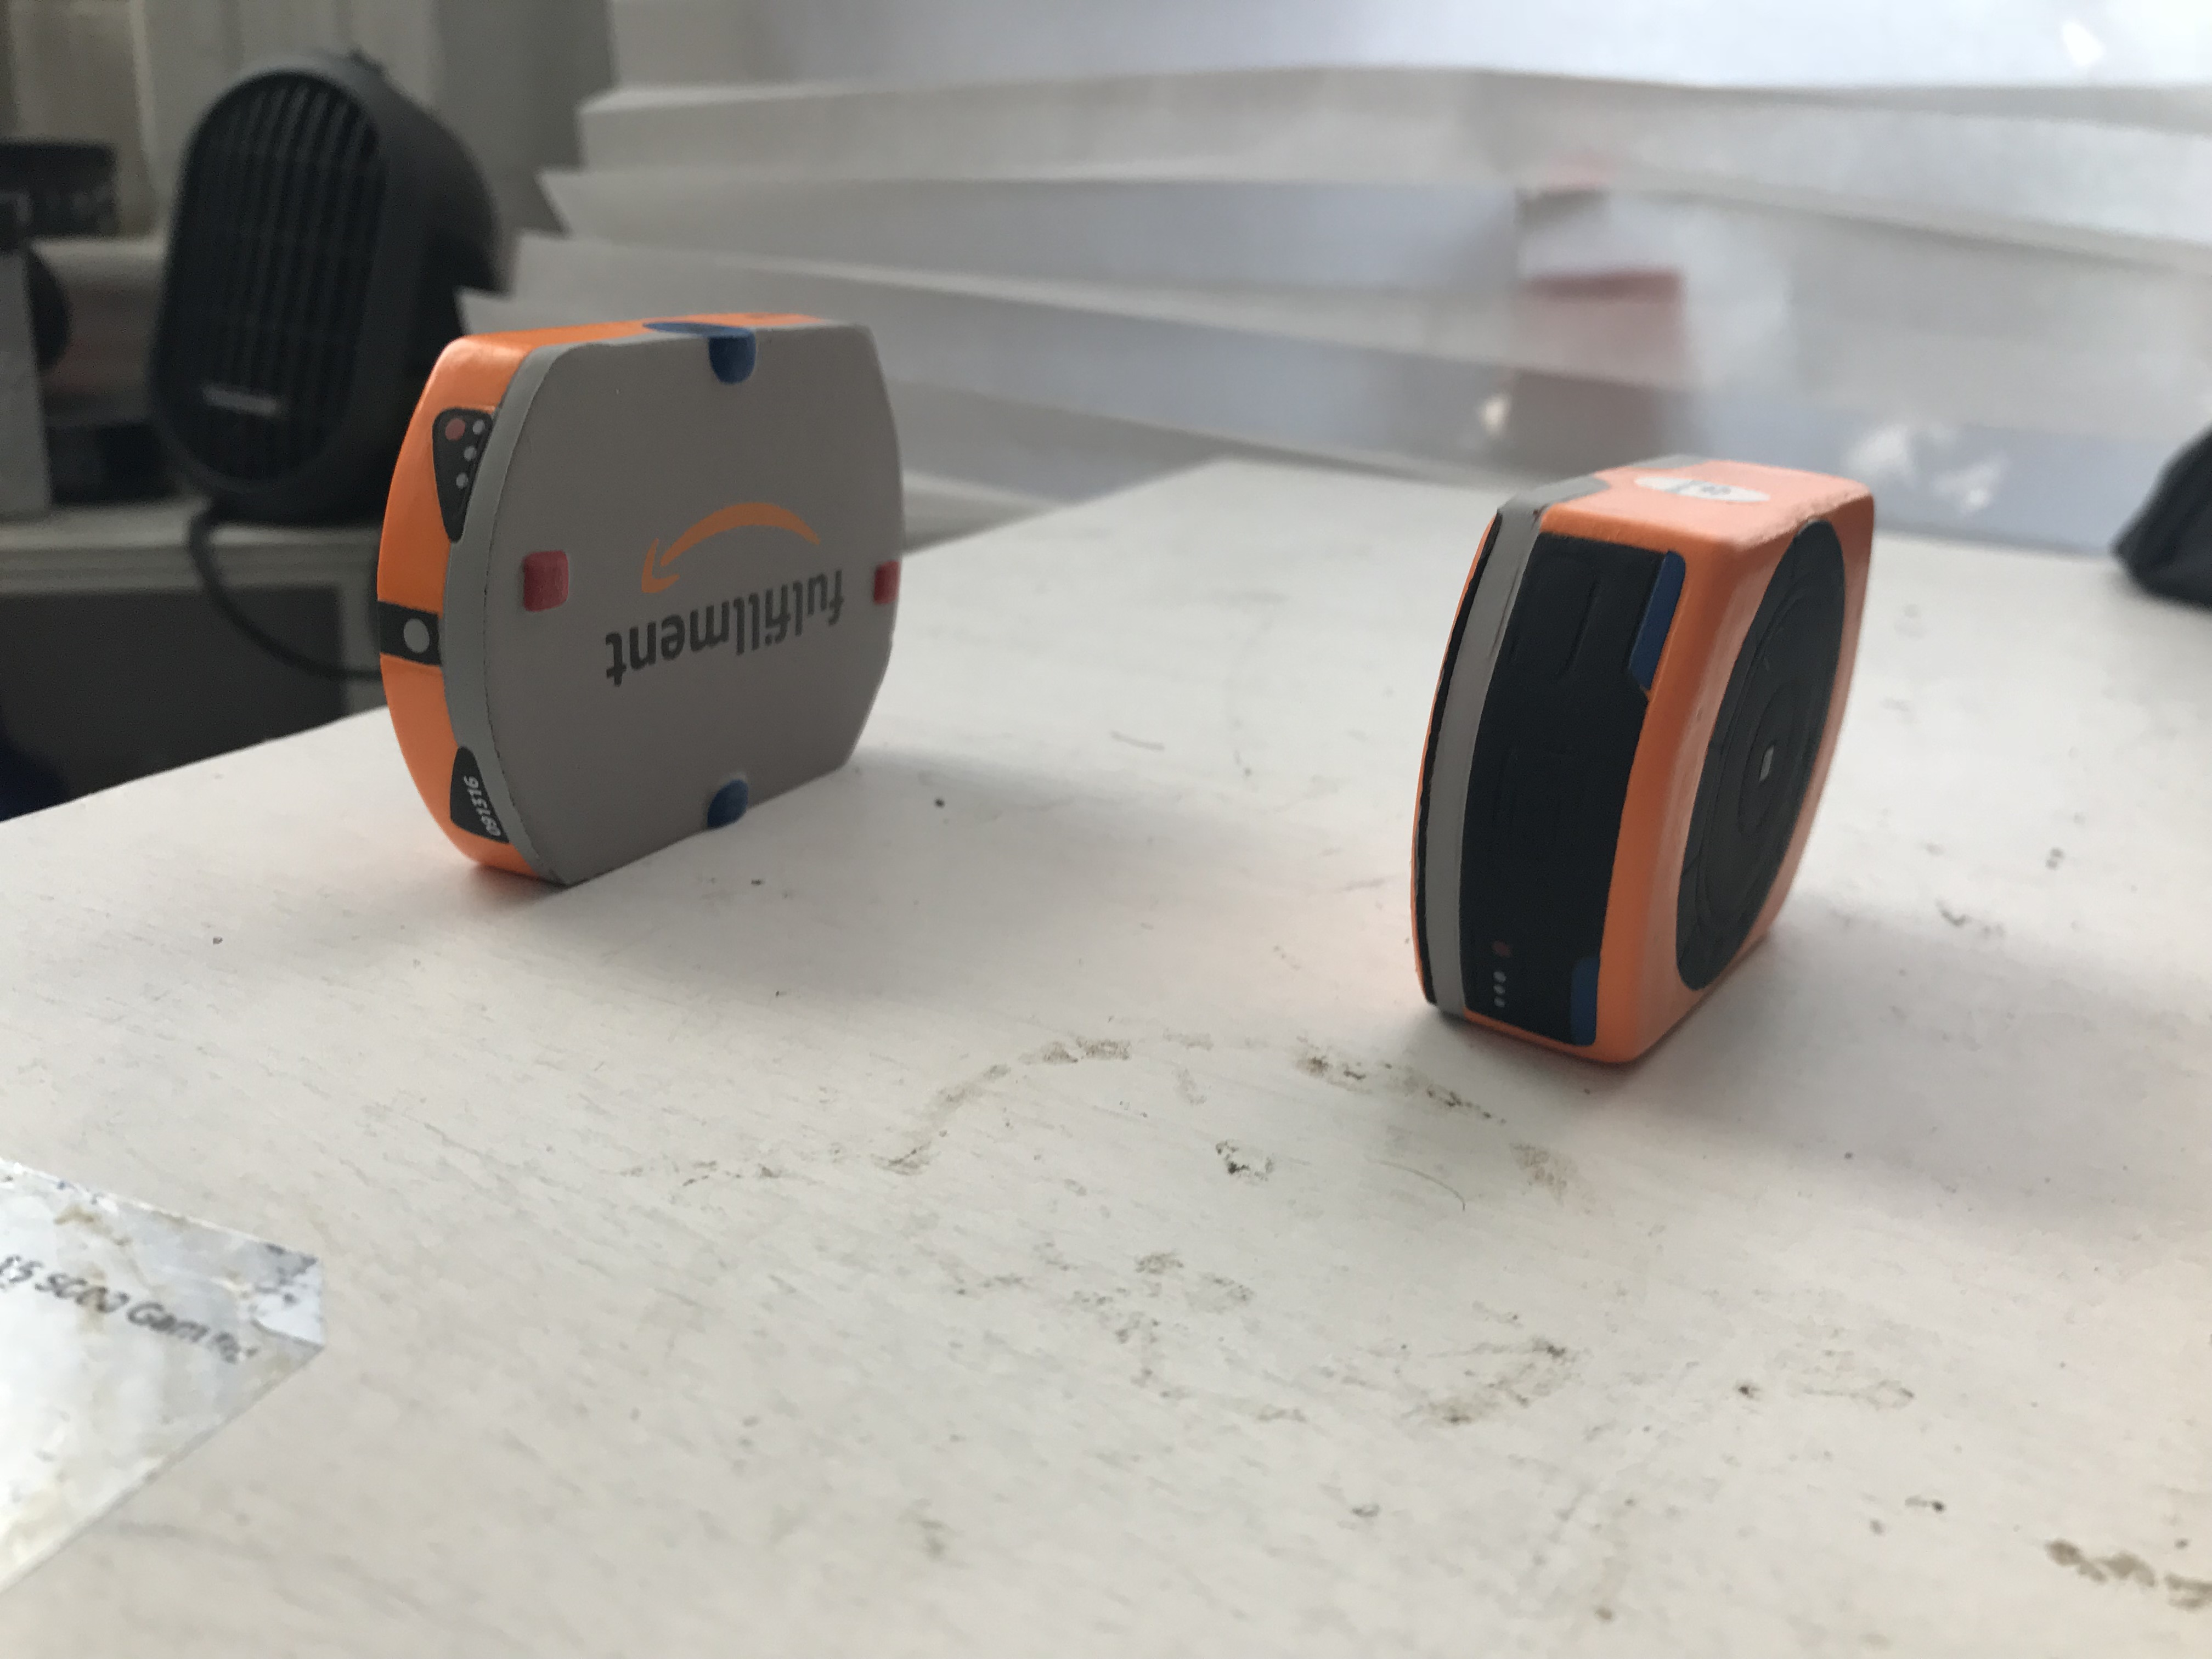amazon_bot: (317, 301, 937, 910), (1390, 420, 1911, 1127)
